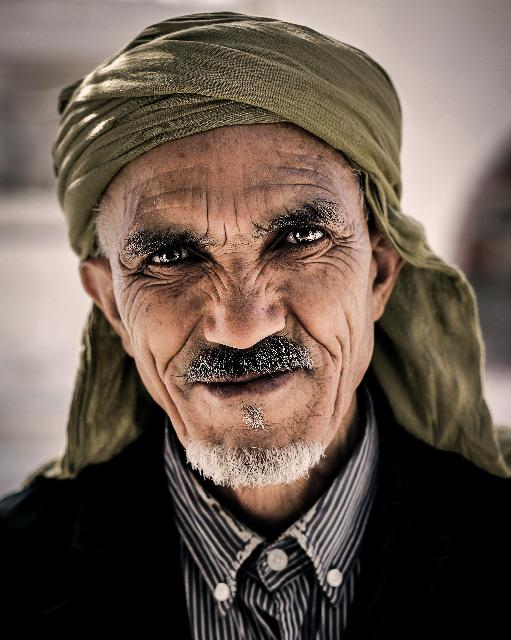bunny_line: (202, 269, 230, 303), (250, 254, 270, 290)
crows_feet: (328, 232, 362, 272), (118, 258, 148, 292)
forehead: (284, 158, 334, 196), (147, 182, 199, 210)
frown_line: (200, 204, 218, 242), (219, 221, 233, 253)
gummy_smile: (163, 326, 207, 366), (290, 307, 328, 353)
masseter: (146, 352, 186, 418), (330, 344, 352, 411), (340, 314, 362, 352)
